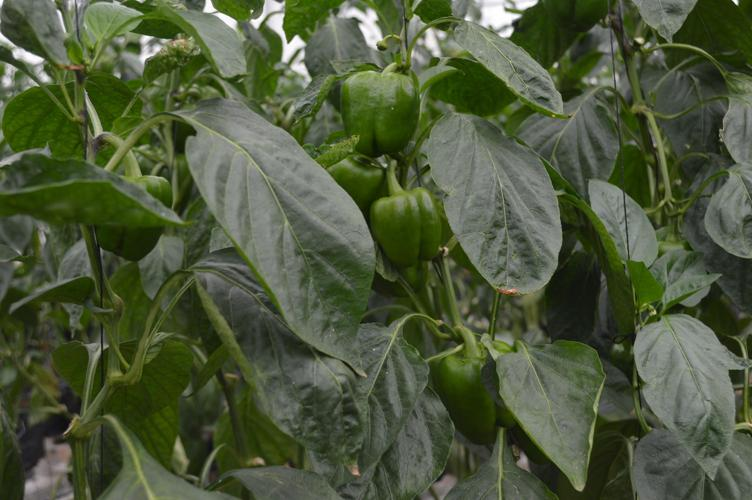BellPepper: (425, 335, 523, 452), (332, 62, 429, 162), (91, 166, 181, 271), (370, 185, 451, 280)
